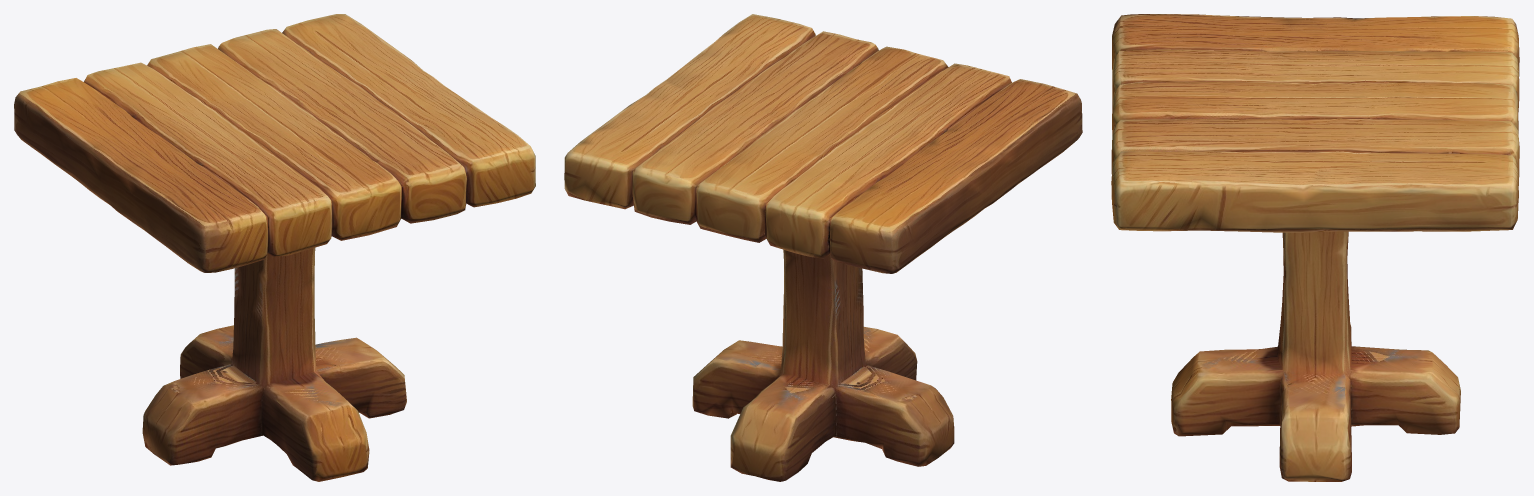
Rendered from SM_Env_Table.fbx.
3 views of the same model, side by side, from view 1: azimuth 30°, elevation 25°; view 2: azimuth 150°, elevation 25°; view 3: azimuth 270°, elevation 25° (orthographic). The views are drawn at different scales.
Visible parts, largest first — view 1: SM_Env_Table; view 2: SM_Env_Table; view 3: SM_Env_Table.
Part boxes in pixels (<box>): SM_Env_Table: <box>14,14,535,481</box>; SM_Env_Table: <box>564,14,1082,481</box>; SM_Env_Table: <box>1111,14,1519,481</box>.
Bounding box in the file's own units: 0.8475 × 0.75 × 0.8482.
